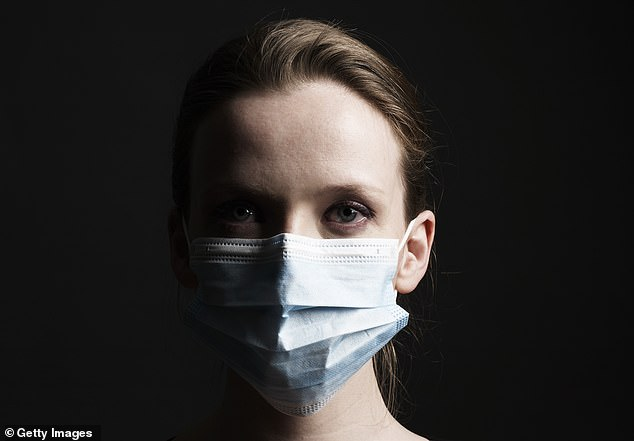surgical: (183, 230, 416, 417)
